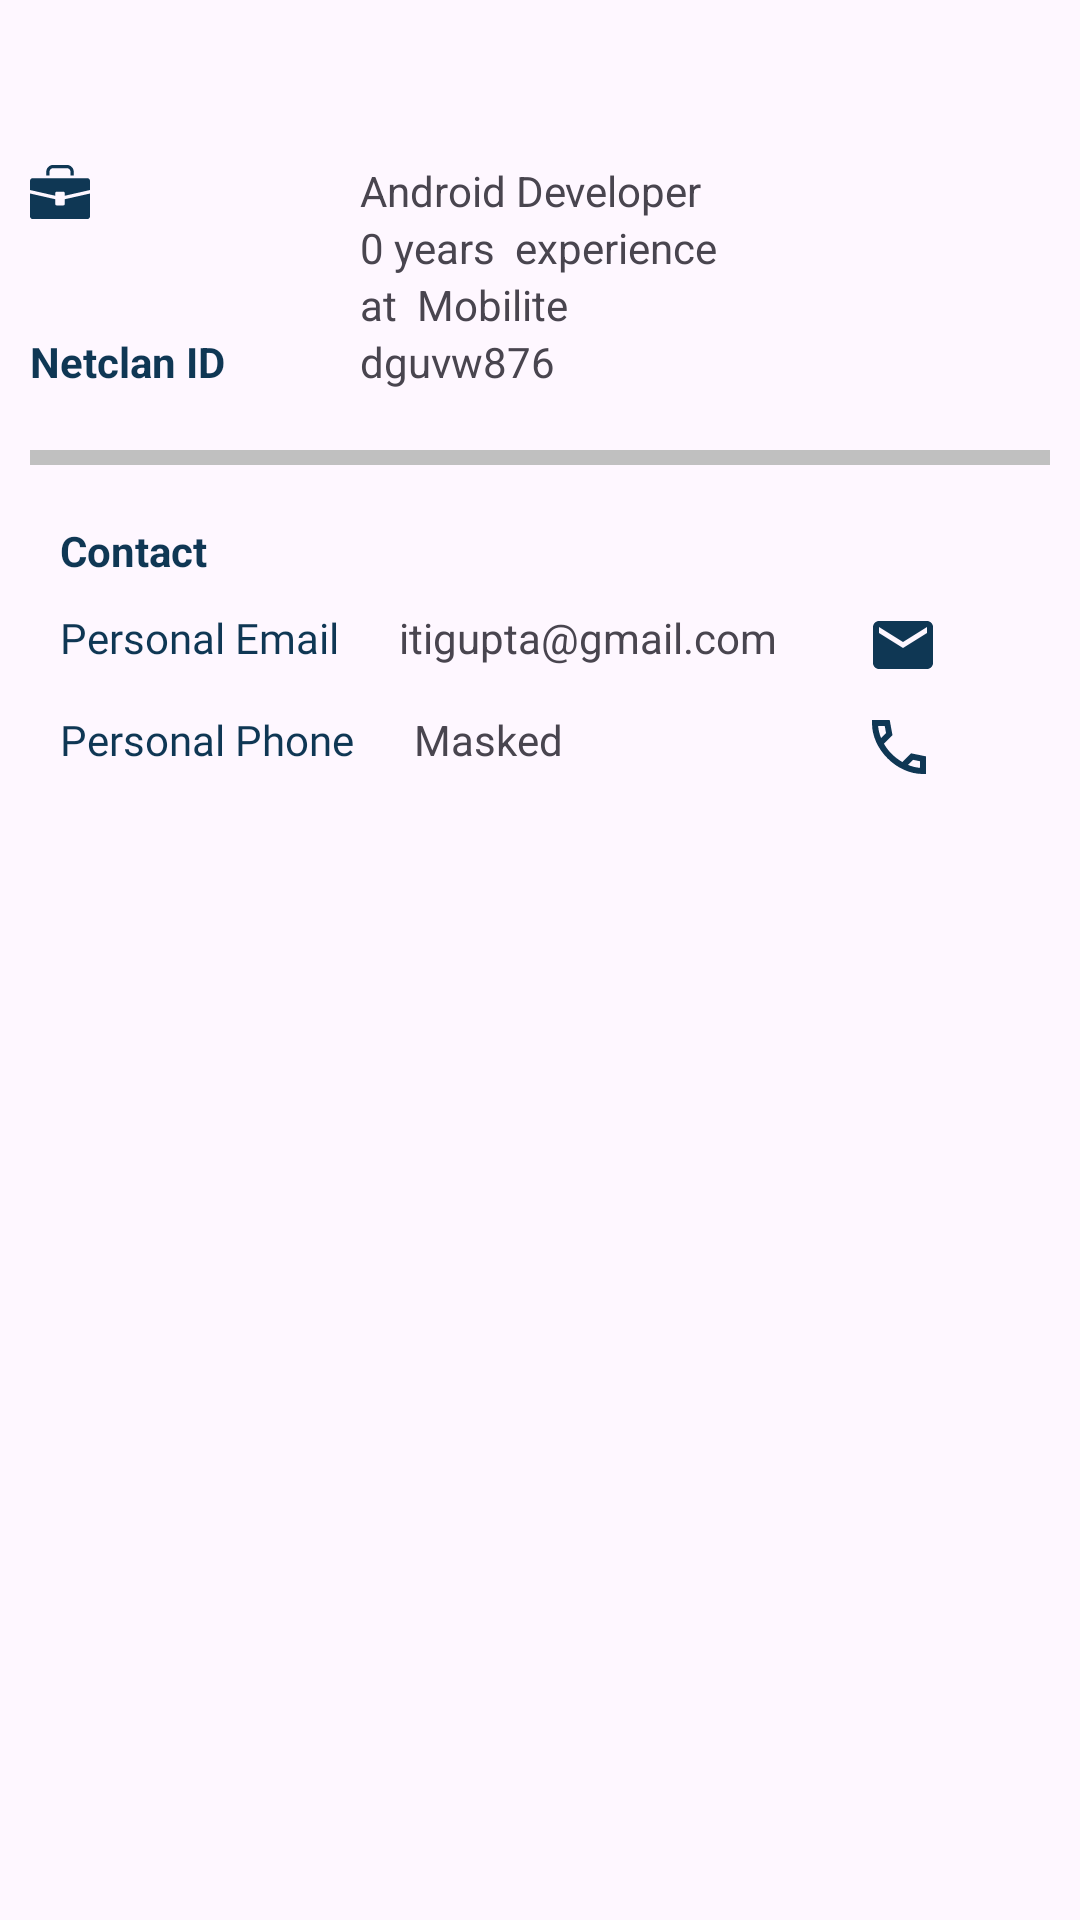

Locate icon controls on the screen. Image size 1080*1920, boxes as (left=x1, top=y1, right=x2, bottom=y2).
business bag: (left=30, top=165, right=90, bottom=219)
call: (left=872, top=720, right=926, bottom=774)
